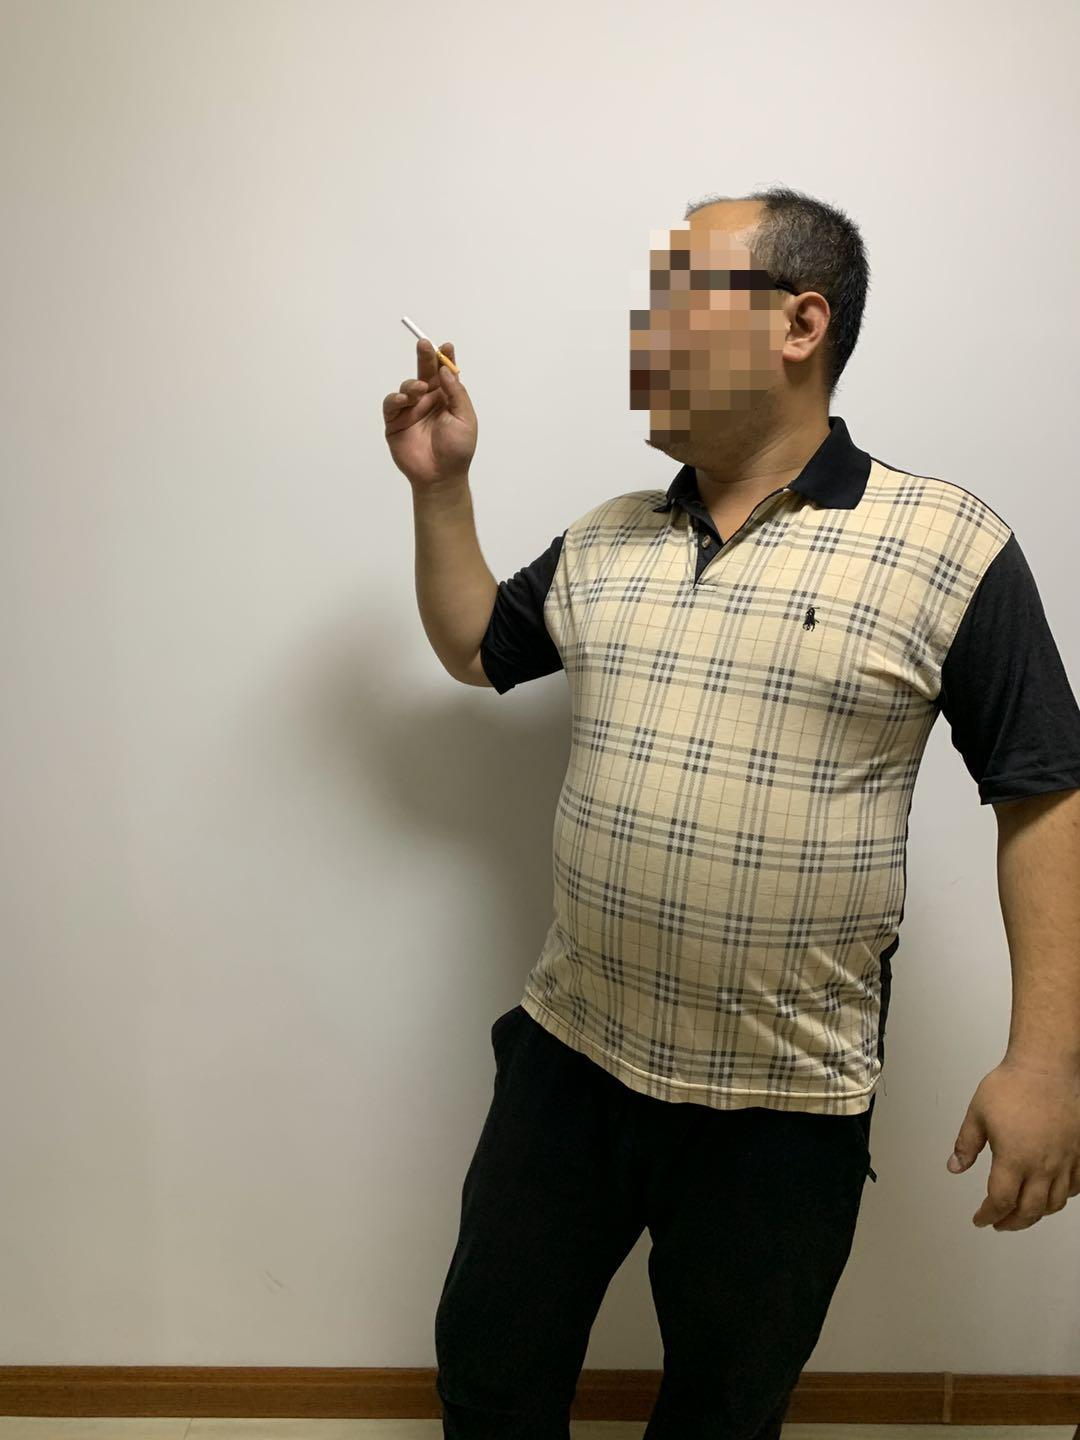smoke: (397, 312, 467, 379)
